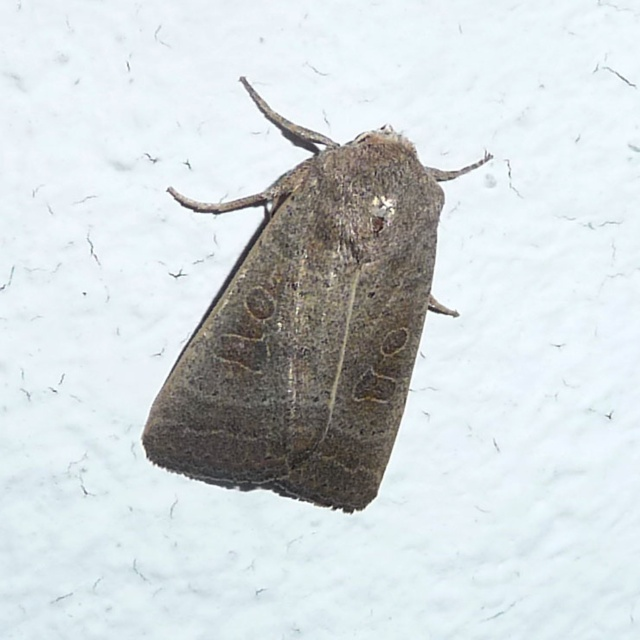Moths and butterflies: (139, 70, 494, 513)
